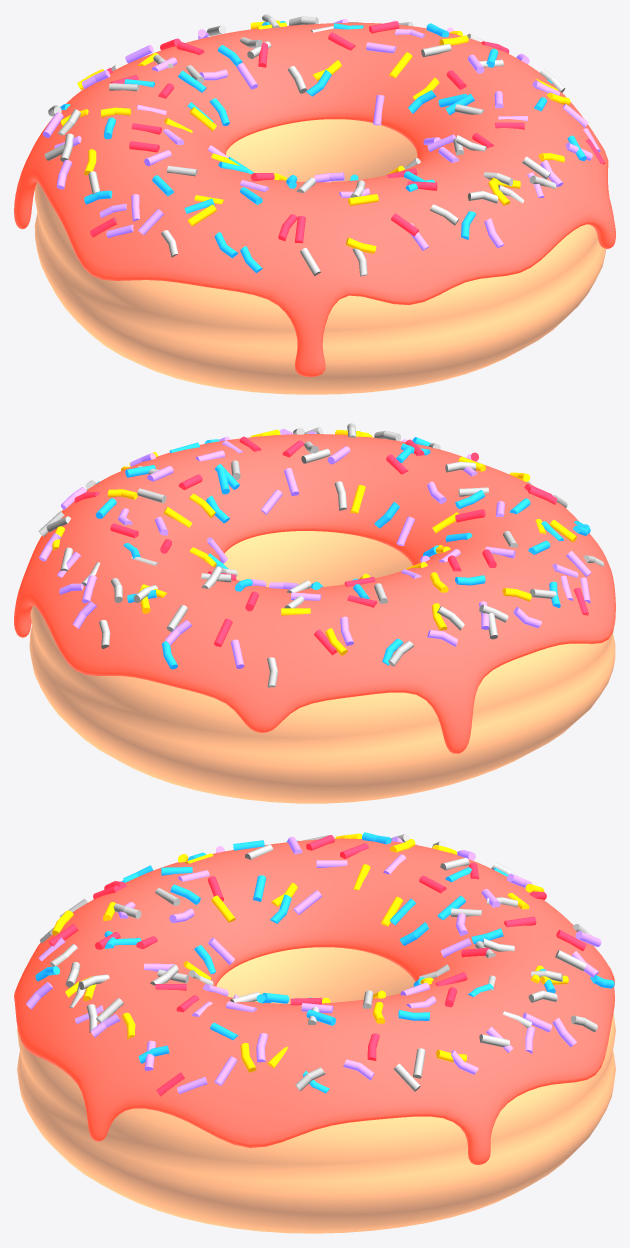
File: Donut.fbx
The picture shows the model from 3 angles, top to bottom: view 1: azimuth 30°, elevation 25°; view 2: azimuth 150°, elevation 25°; view 3: azimuth 270°, elevation 25°; orthographic projection. The views are drawn at different scales.
Visible parts, largest first — view 1: Donut.001; view 2: Donut.001; view 3: Donut.001.
Part boxes in pixels (<box>): Donut.001: <box>14,14,615,394</box>; Donut.001: <box>14,423,615,803</box>; Donut.001: <box>14,832,615,1233</box>.
Bounding box in the file's own units: 267 × 102 × 260.
